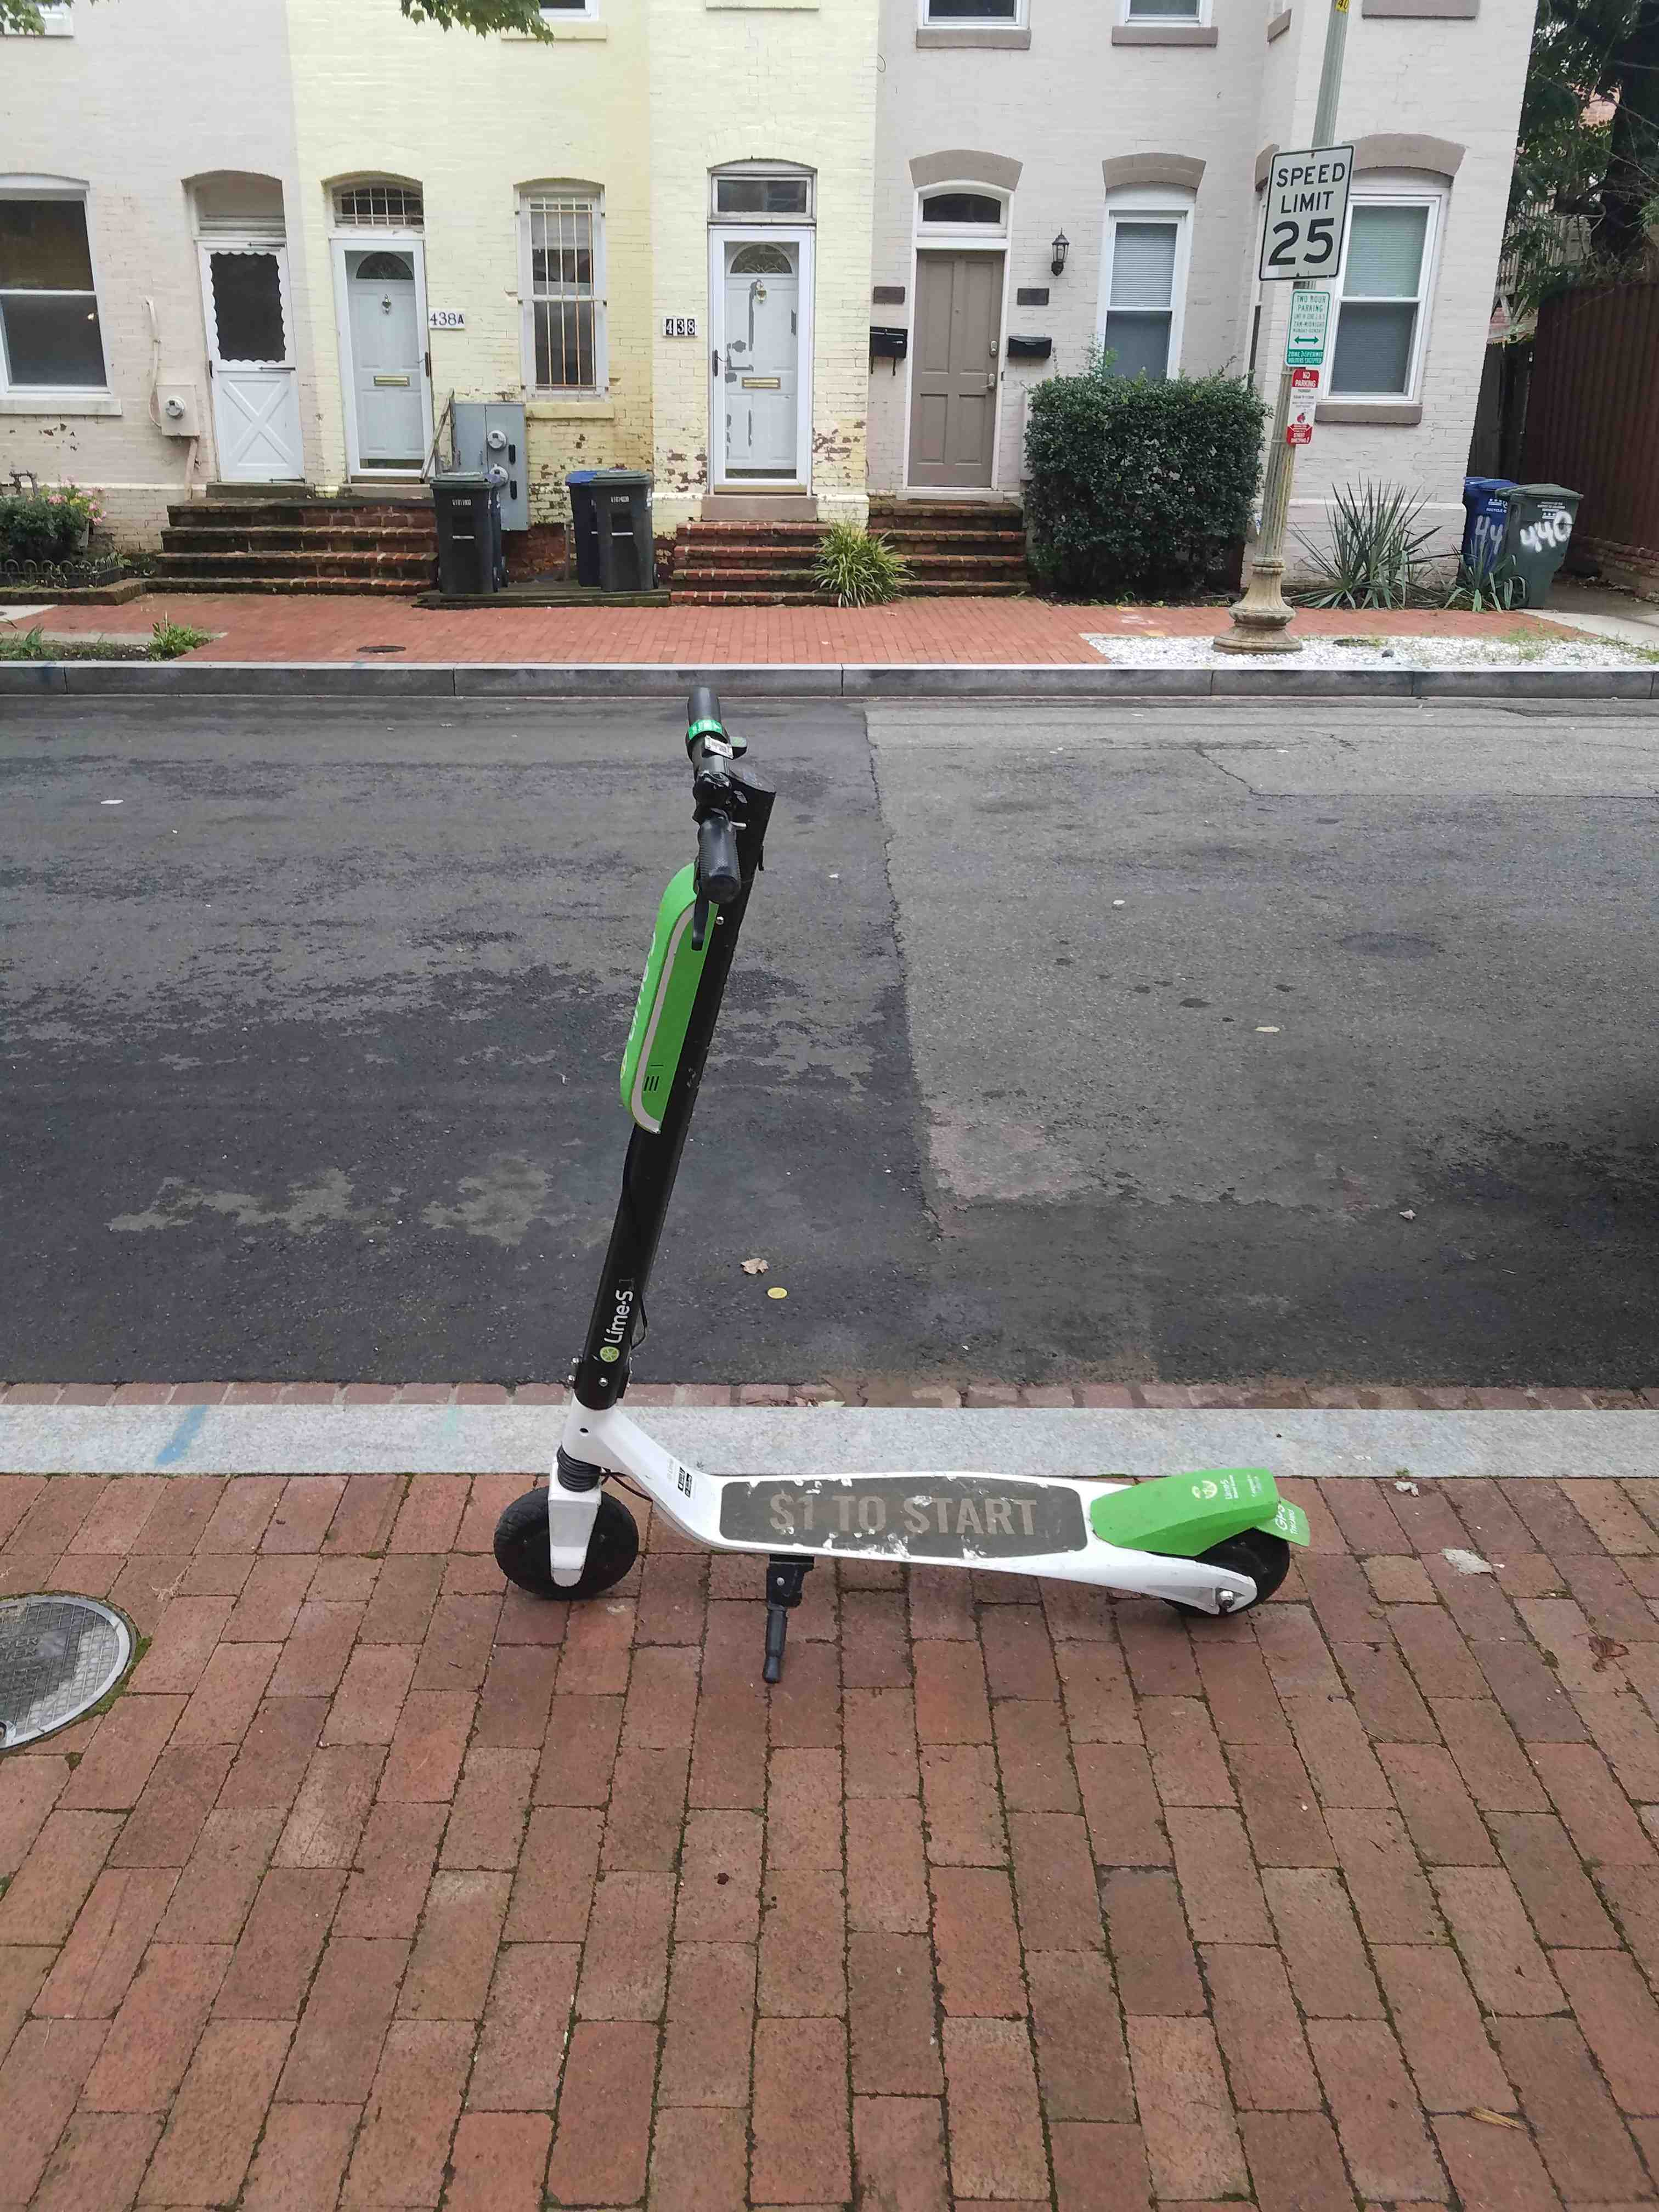scooter: (481, 662, 1314, 1656)
